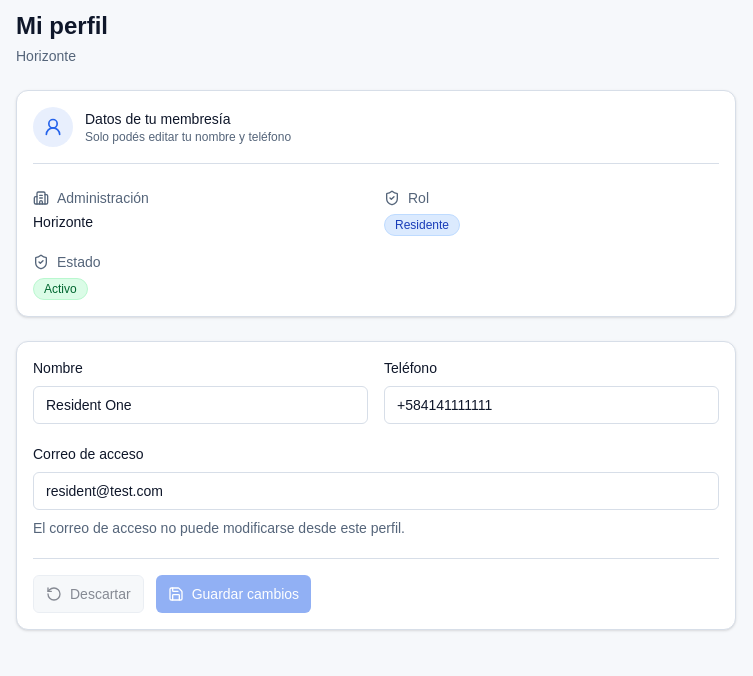
Test: ResidentProfilePage › marks single character name as invalid and disables save
Replace the text in the field labelled "Nombre" with "A" at (200, 405), box [33,386,368,424]
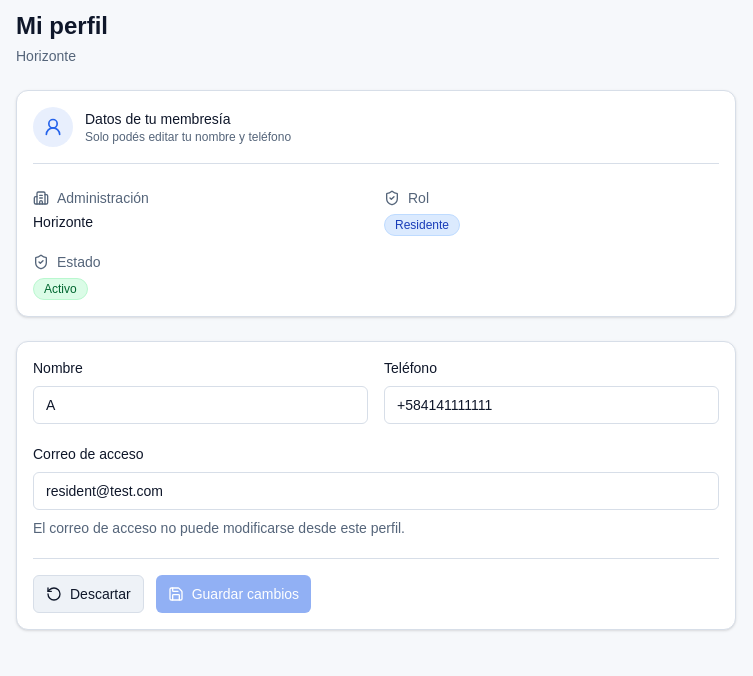
Leave the field labelled "Nombre", box [33,386,368,424]
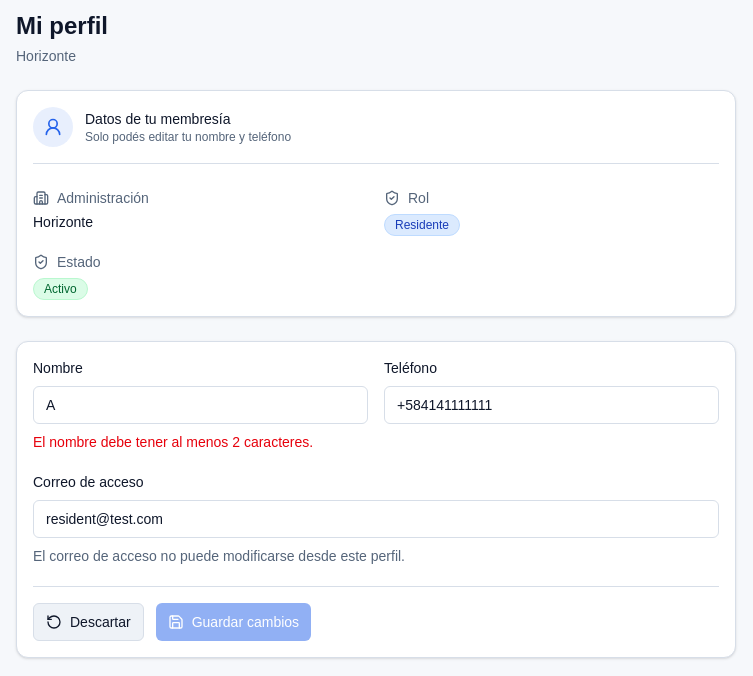
Check: the button "Guardar cambios" is disabled, box [156,603,311,641]
Check: the text "El nombre debe tener al menos 2 caracteres." is shown, box [33,434,313,450]
